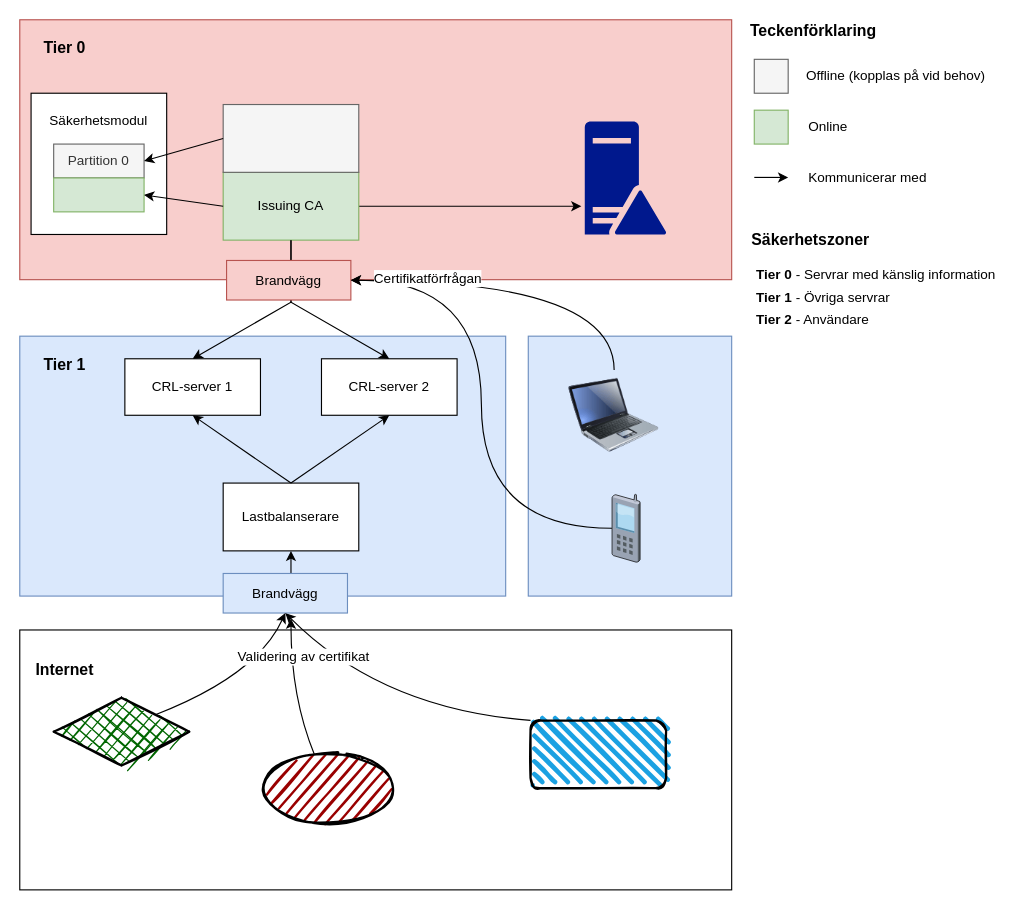
This 1023x910 diagram has some shape labels left out. The shapes that lost their labels are listed below. From the top down, each one's centre as x and y in pixels, then its label:
At point 290,137: "Root CA".
At point 98,194: "Partition 1".
At point 625,177: "Domänkontrollant".
